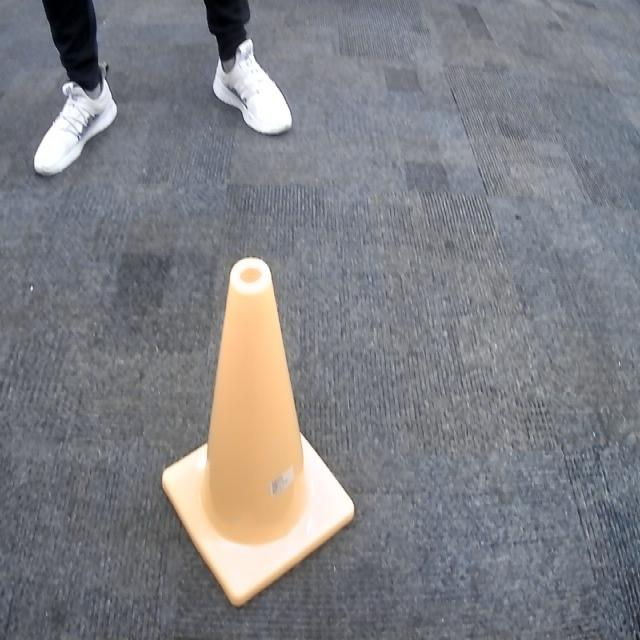cone: (157, 252, 357, 611)
